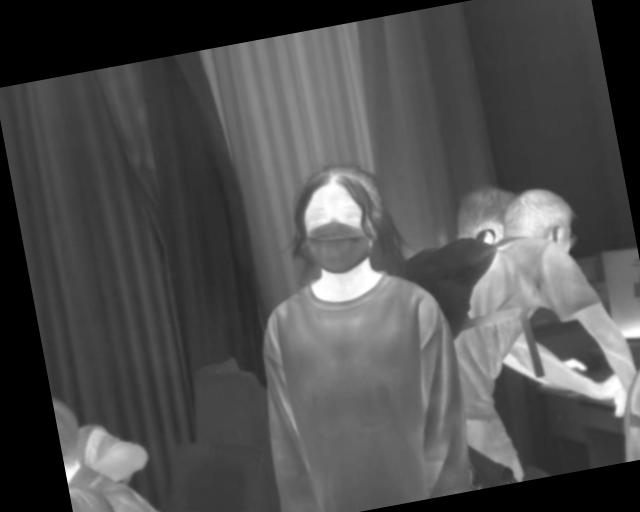face: (256, 148, 377, 280), (370, 161, 481, 285)
